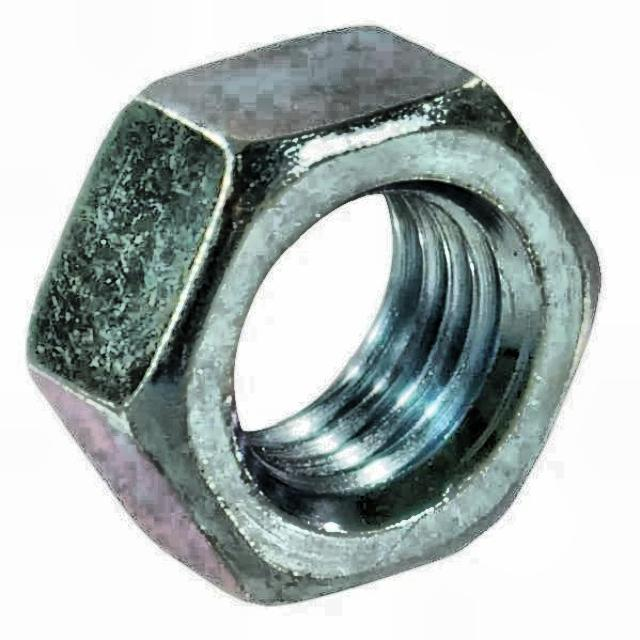Nut Detection - v1 Nut Dataset: (20, 14, 603, 612)
